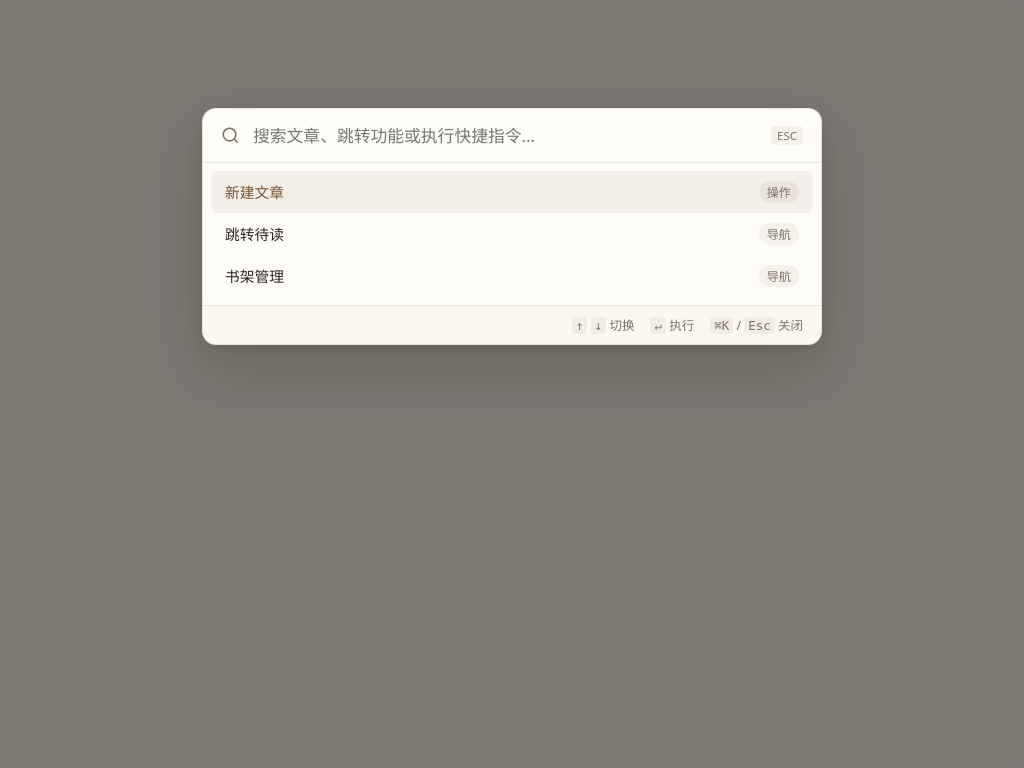
it: CommandPalette › filters options by search query
Type "待读" into the field with placeholder "搜索文章、跳转功能或执行快捷指令..." at (505, 135), box [251,122,759,148]
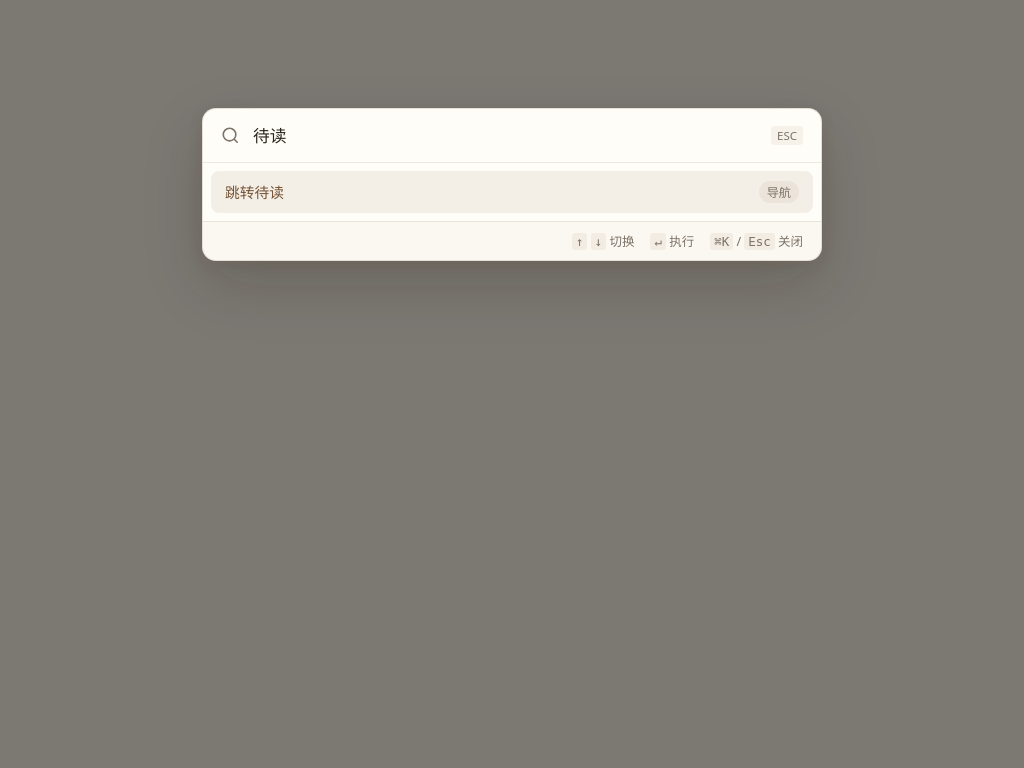
Expected: the text "跳转待读" is shown, [225,182,284,202]
Expected: the option "新建文章" is gone
